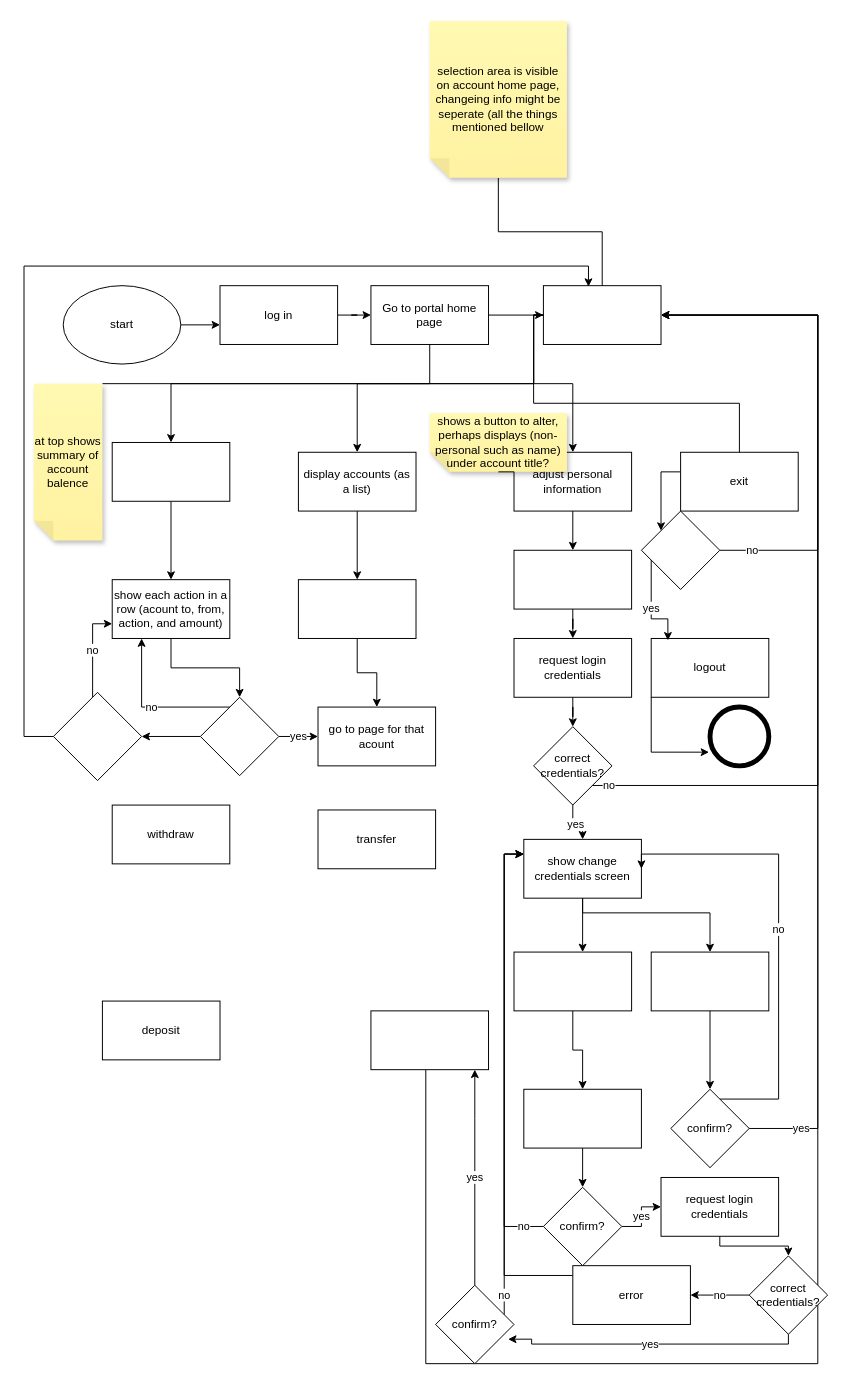
Image size: 845x1389. Some labels were removed from this diagram. The shapes that lost their labels are listed below. From the top down, each one's centre as x and y in pixels, then its label:
At point (601, 314): "select menue".
At point (170, 471): "view all history".
At point (680, 549): "confirm".
At point (572, 579): "display information (obsfucate private info)".
At point (356, 608): "click on one account".
At point (97, 736): "hit exit button (stays pinned at top)".
At point (239, 736): "clicked on name of account?".
At point (739, 736): "close app".
At point (572, 981): "hit save".
At point (709, 981): "hit cancel".
At point (429, 1040): "save new values".
At point (582, 1118): "display original next to what's been changed".
